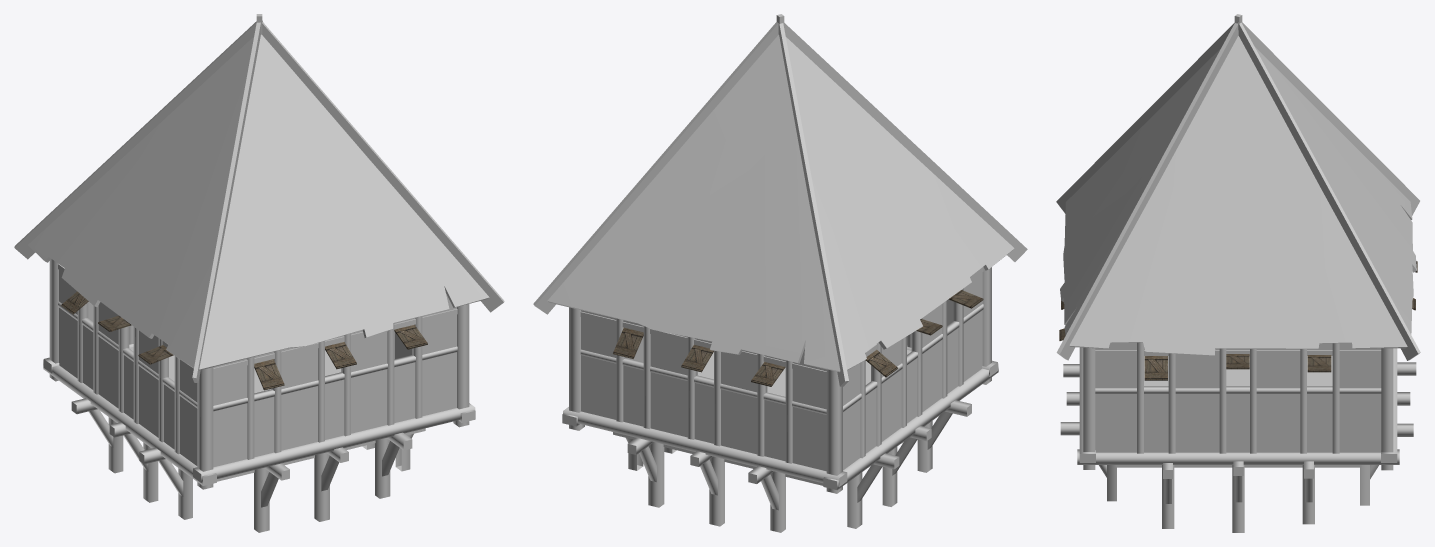
The model's file is Tower_top1_LOD0.fbx.
3 renders of one model, left to right at view 1: azimuth 30°, elevation 25°; view 2: azimuth 150°, elevation 25°; view 3: azimuth 270°, elevation 25°, orthographic.
Visible parts, largest first — view 1: polySurface1513; view 2: polySurface1513; view 3: polySurface1513.
Part boxes in pixels (x1,y1,x2,y2): polySurface1513: (14,14,504,532); polySurface1513: (533,14,1027,532); polySurface1513: (1056,14,1420,532).
Bounding box in the file's own units: 10.37 × 14.48 × 10.37.
